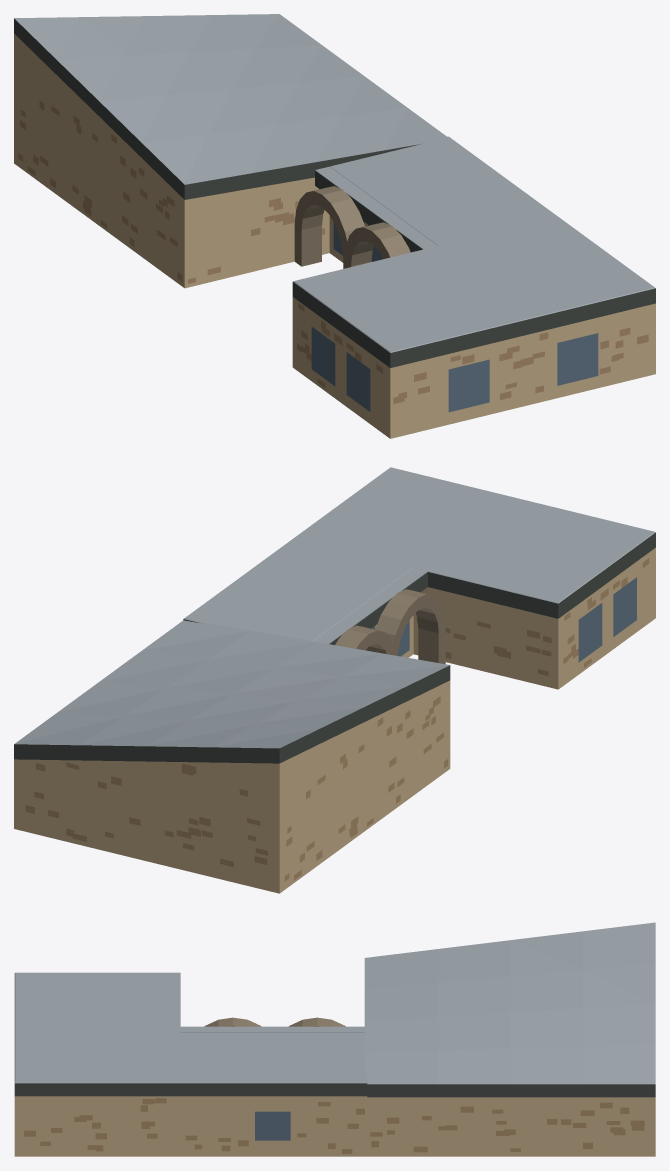
The model's file is grand-canyon-shrine-of-the-ages.glb.
The picture shows the model from 3 angles, top to bottom: view 1: azimuth 30°, elevation 25°; view 2: azimuth 150°, elevation 25°; view 3: azimuth 270°, elevation 25°; orthographic projection. The views are drawn at different scales.
Visible parts, largest first — view 1: Shrine of the Ages; view 2: Shrine of the Ages; view 3: Shrine of the Ages.
Boxes of the visible parts, bbox=[...] form: Shrine of the Ages: bbox=[14, 14, 655, 438]; Shrine of the Ages: bbox=[14, 467, 655, 893]; Shrine of the Ages: bbox=[14, 922, 655, 1156].
Size of the model in its own units: 22.1 by 11.5 by 54.08.
